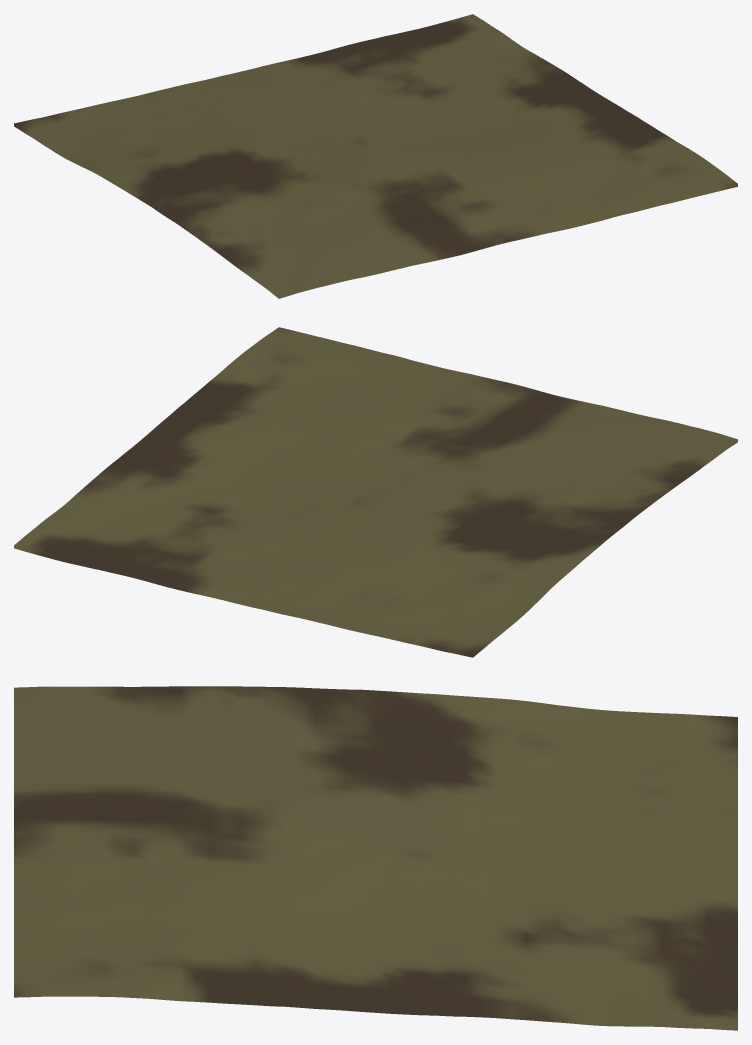
File: land_m_04_10.glb
The picture shows the model from 3 angles, top to bottom: view 1: azimuth 30°, elevation 25°; view 2: azimuth 150°, elevation 25°; view 3: azimuth 270°, elevation 25°; orthographic projection. The views are drawn at different scales.
Parts seen in each view (by area): view 1: land_m_04_10; view 2: land_m_04_10; view 3: land_m_04_10.
Boxes of the visible parts, x1,y1,x2,y2 form: land_m_04_10: (14, 14, 737, 298); land_m_04_10: (14, 327, 737, 657); land_m_04_10: (14, 686, 737, 1030).
Bounding box in the file's own units: 960 × 61.11 × 960.
